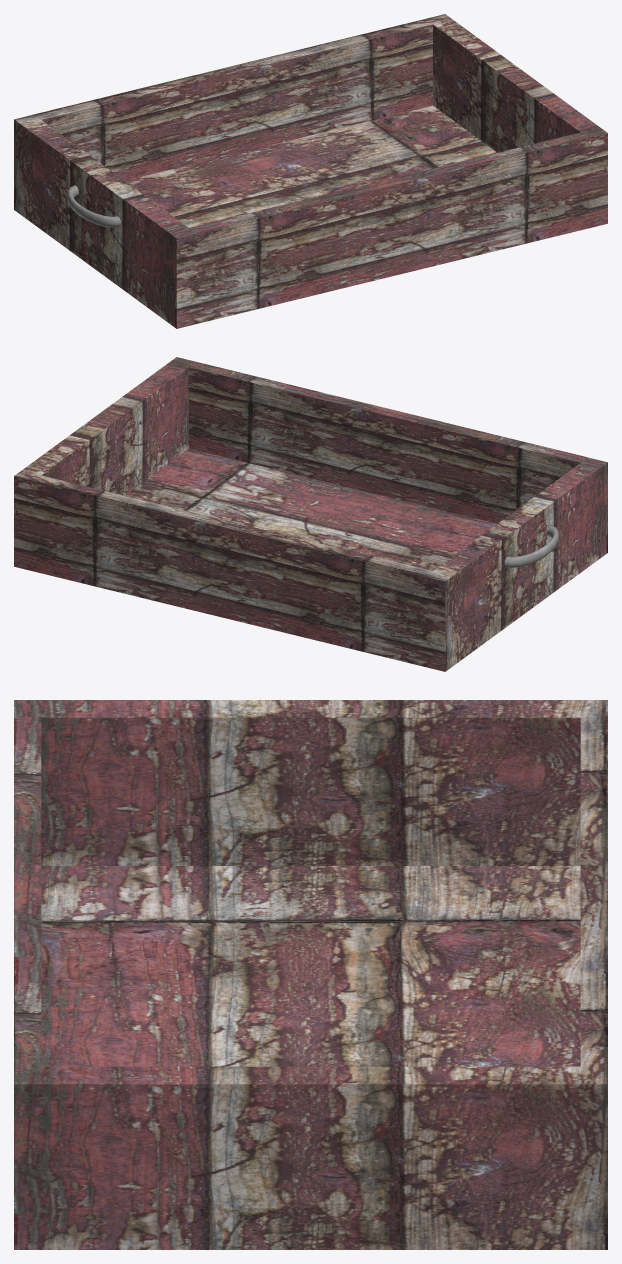
File: Cajon.obj
3 renders of one model, top to bottom at view 1: azimuth 30°, elevation 25°; view 2: azimuth 150°, elevation 25°; view 3: azimuth 270°, elevation 25°, orthographic. The views are drawn at different scales.
Visible parts, largest first — view 1: Cajon4:polySurface33; view 2: Cajon4:polySurface33; view 3: Cajon4:polySurface33.
Part boxes in pixels (left/top/right/bottom): Cajon4:polySurface33: left=14, top=14, right=607, bottom=328; Cajon4:polySurface33: left=14, top=357, right=607, bottom=671; Cajon4:polySurface33: left=14, top=700, right=607, bottom=1249.
Size of the model in its own units: 4.62 by 0.8864 by 2.88.
2 materials, 2 textured.
